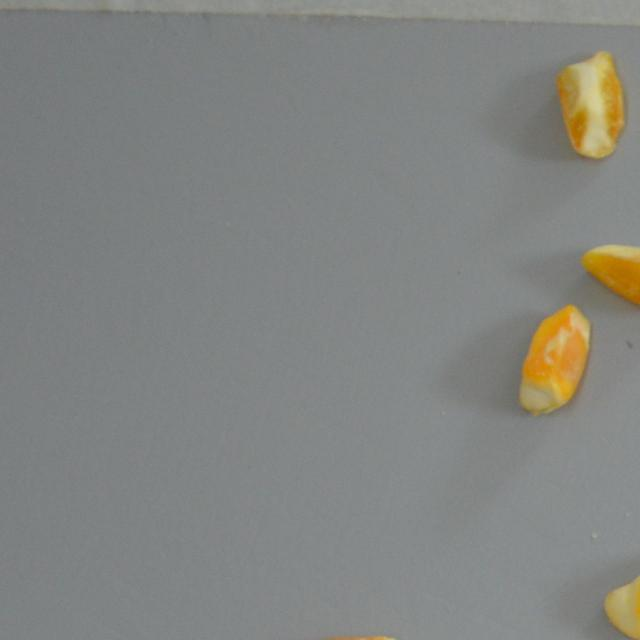estandar: (552, 39, 629, 164), (579, 236, 640, 310)
pelicula: (514, 300, 600, 422), (600, 546, 640, 639), (273, 627, 402, 640)
